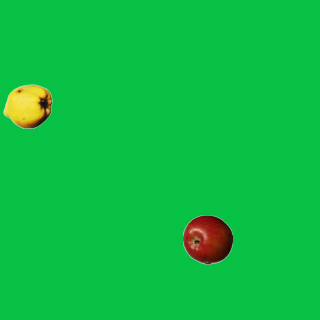Apple Braeburn: (182, 214, 232, 264)
Quince: (2, 81, 52, 131)
